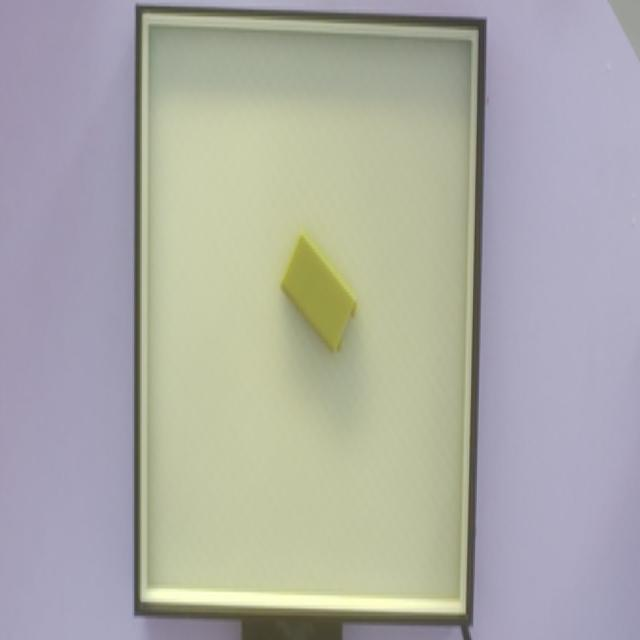bateria: (279, 229, 359, 358)
mesa: (134, 6, 486, 627)
